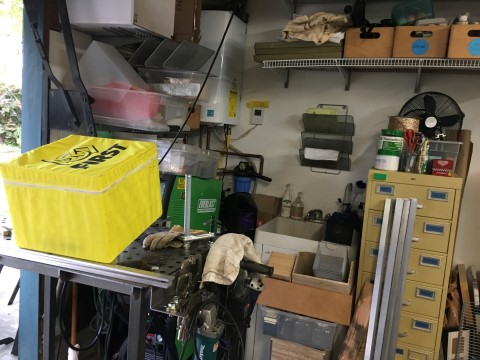cube: (1, 133, 163, 265)
